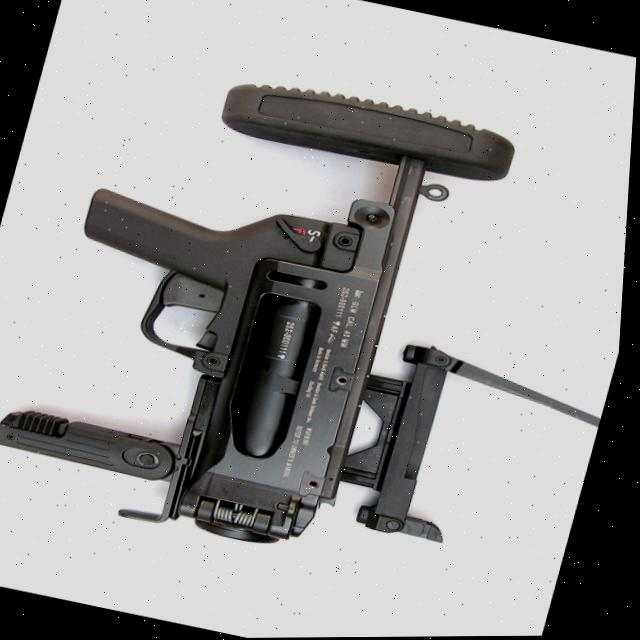rocket: (0, 38, 533, 578)
